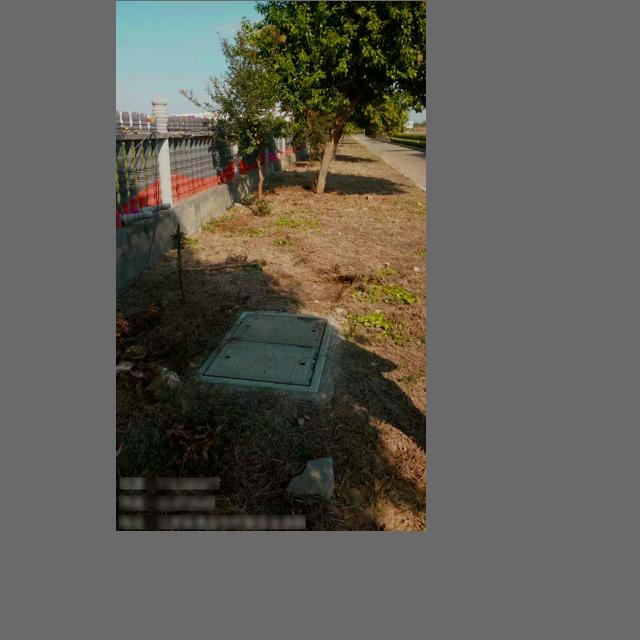good: (196, 311, 334, 392)
